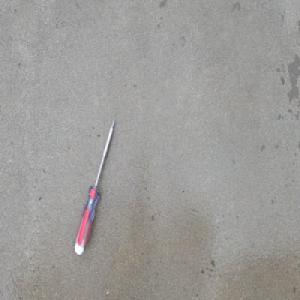Screwdriver: (73, 117, 116, 256)
